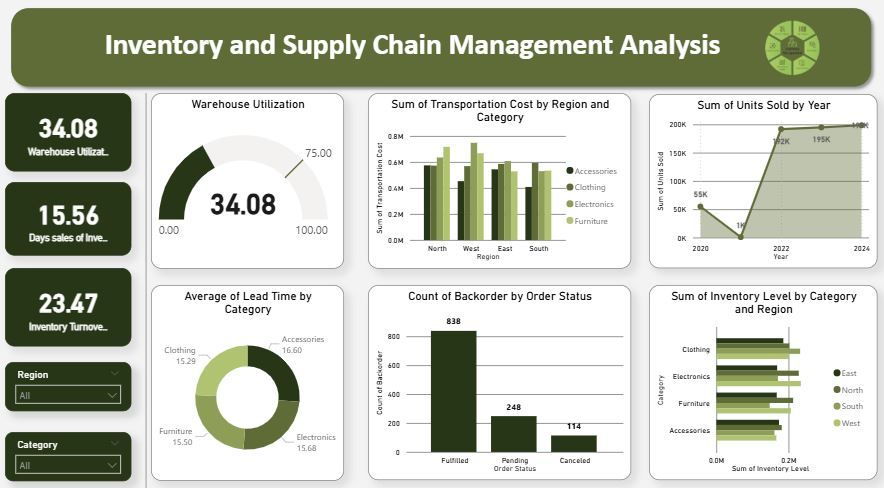

This screenshot's page, from the dashboard's own definition file:
{"tool":"powerbi","page":{"name":"Page 1","canvas":[1280,720],"ordinal":0},"visuals":[{"type":"shape","box":[11.8,10.3,1256.3,130.8],"z":0},{"type":"textbox","box":[133.7,38.2,928.7,74.9],"z":1000},{"type":"image","box":[1049.1,25,191,102.9],"z":2000},{"type":"shape","box":[207.2,141.1,14.7,578.9],"z":3000},{"type":"card","fields":{"Values":["Inventory and Supply Chain Dataset.Warehouse Utilization"]},"box":[11.8,141.1,182.2,113.1],"z":4000},{"type":"card","fields":{"Values":["Inventory and Supply Chain Dataset.Days sales of Inventory"]},"box":[11.8,268.9,182.2,105.8],"z":5000},{"type":"card","fields":{"Values":["Inventory and Supply Chain Dataset.Inventory Turnover Ratio"]},"box":[11.8,393.8,182.2,113.1],"z":6000},{"type":"slicer","fields":{"Values":["Inventory and Supply Chain Dataset.Region"]},"box":[11.8,529,182.2,70.5],"z":7000},{"type":"slicer","fields":{"Values":["Inventory and Supply Chain Dataset.Category"]},"box":[11.8,628.9,182.2,70.5],"z":8000},{"type":"gauge","fields":{"Y":["Inventory and Supply Chain Dataset.Warehouse Utilization"]},"box":[221.9,141.1,277.7,252.7],"z":9000},{"type":"clusteredColumnChart","fields":{"Y":["Sum(Inventory and Supply Chain Dataset.Transportation Cost)"],"Category":["Inventory and Supply Chain Dataset.Region"],"Series":["Inventory and Supply Chain Dataset.Category"]},"box":[534.9,141.1,379.1,252.7],"z":10000},{"type":"lineChart","fields":{"Y":["Sum(Inventory and Supply Chain Dataset.Units Sold)"],"Category":["Inventory and Supply Chain Dataset.Date.Variation.Date Hierarchy.Year"]},"box":[938.9,142.5,329.1,251.3],"z":11000},{"type":"donutChart","fields":{"Y":["Avg(Inventory and Supply Chain Dataset.Lead Time)"],"Category":["Inventory and Supply Chain Dataset.Category"]},"box":[221.9,417.3,277.7,282.1],"z":12000},{"type":"columnChart","fields":{"Y":["CountNonNull(Inventory and Supply Chain Dataset.Backorder)"],"Category":["Inventory and Supply Chain Dataset.Order Status"]},"box":[534.3,417.1,378.6,281.4],"z":13000},{"type":"clusteredBarChart","fields":{"Y":["Sum(Inventory and Supply Chain Dataset.Inventory Level)"],"Category":["Inventory and Supply Chain Dataset.Category"],"Series":["Inventory and Supply Chain Dataset.Region"]},"box":[939,417,329,281],"z":14000}]}

Visuals, with their boxes in screenshot pixels (x1, y1, x2, y2), scaled from the page's 1280x720 canvas onto the 884x488 screenshot:
shape: x1=8 y1=7 x2=876 y2=96
textbox: x1=92 y1=26 x2=734 y2=77
image: x1=725 y1=17 x2=856 y2=87
shape: x1=143 y1=96 x2=153 y2=487
card - Inventory and Supply Chain Dataset.Warehouse Utilization: x1=8 y1=96 x2=134 y2=172
card - Inventory and Supply Chain Dataset.Days sales of Inventory: x1=8 y1=182 x2=134 y2=254
card - Inventory and Supply Chain Dataset.Inventory Turnover Ratio: x1=8 y1=267 x2=134 y2=344
slicer - Inventory and Supply Chain Dataset.Region: x1=8 y1=359 x2=134 y2=406
slicer - Inventory and Supply Chain Dataset.Category: x1=8 y1=426 x2=134 y2=474
gauge - Inventory and Supply Chain Dataset.Warehouse Utilization: x1=153 y1=96 x2=345 y2=267
clusteredColumnChart - Sum(Inventory and Supply Chain Dataset.Transportation Cost) x Inventory and Supply Chain Dataset.Region: x1=369 y1=96 x2=631 y2=267
lineChart - Sum(Inventory and Supply Chain Dataset.Units Sold) x Inventory and Supply Chain Dataset.Date.Variation.Date Hierarchy.Year: x1=648 y1=97 x2=876 y2=267
donutChart - Avg(Inventory and Supply Chain Dataset.Lead Time) x Inventory and Supply Chain Dataset.Category: x1=153 y1=283 x2=345 y2=474
columnChart - CountNonNull(Inventory and Supply Chain Dataset.Backorder) x Inventory and Supply Chain Dataset.Order Status: x1=369 y1=283 x2=630 y2=473
clusteredBarChart - Sum(Inventory and Supply Chain Dataset.Inventory Level) x Inventory and Supply Chain Dataset.Category: x1=648 y1=283 x2=876 y2=473
